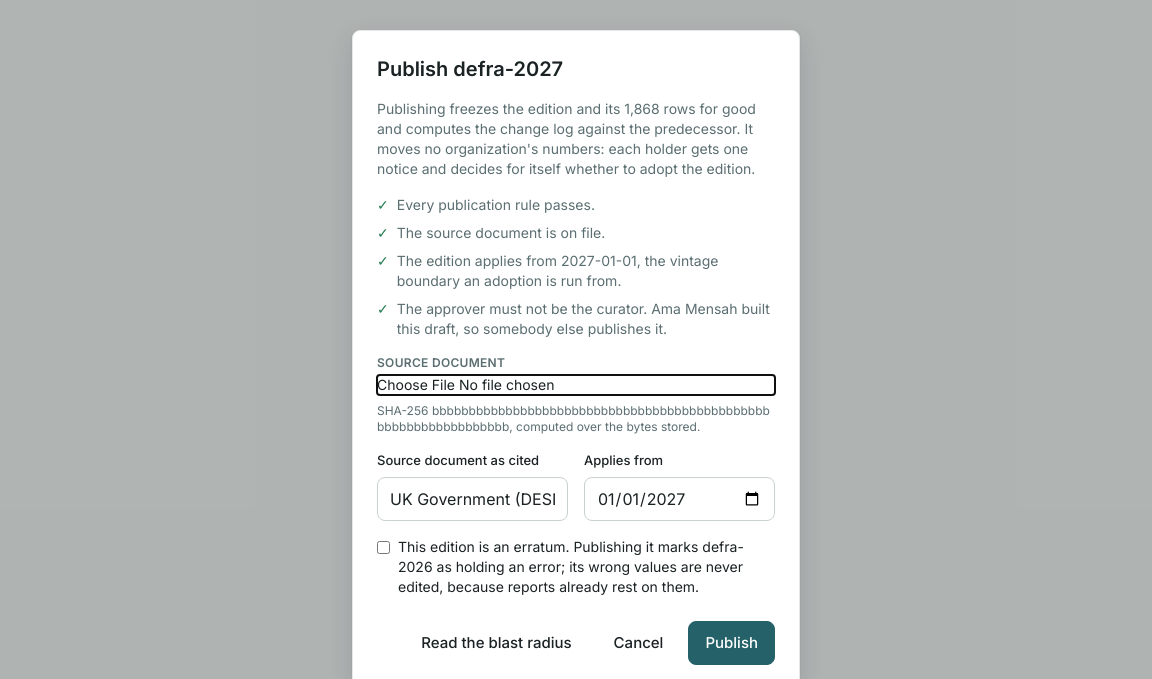
Scenario: a refusal on a field the form does not carry is shown, not swallowed
Click the button "Publish" at (732,643), box [688,621,775,665]
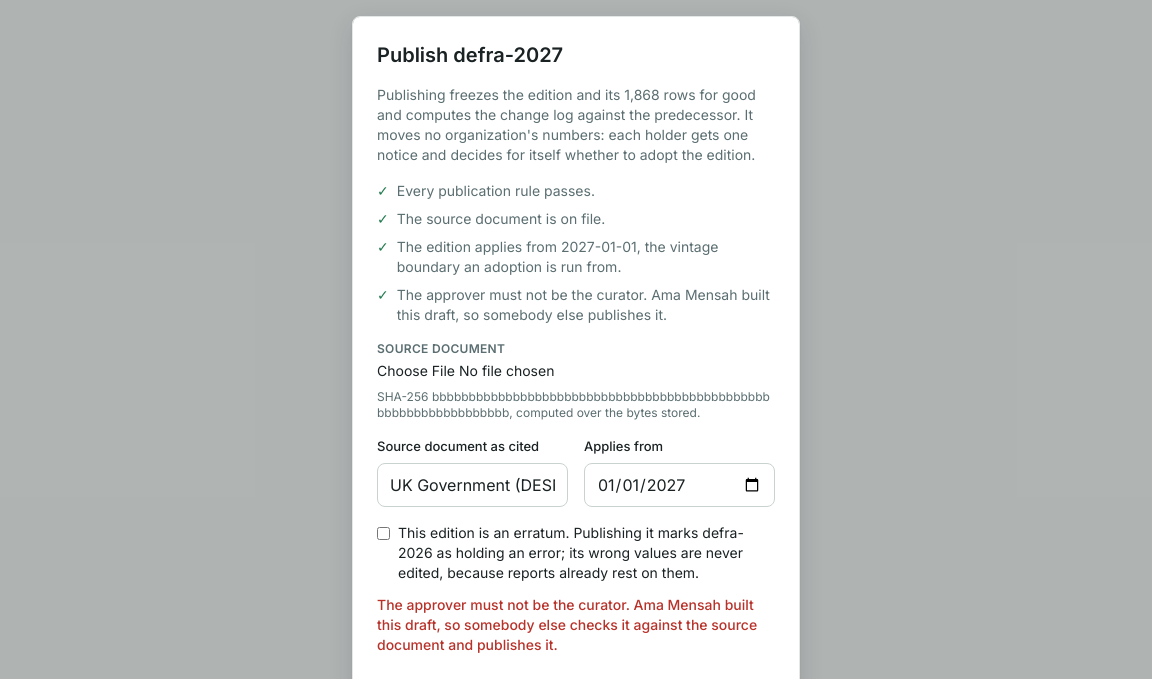
Now the message shows "The approver must not be the curator. Ama Mensah built this draft", box [377,596,757,652]
